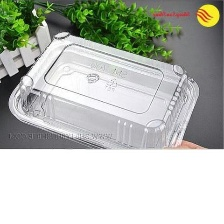plastic_box: (3, 25, 205, 148)
